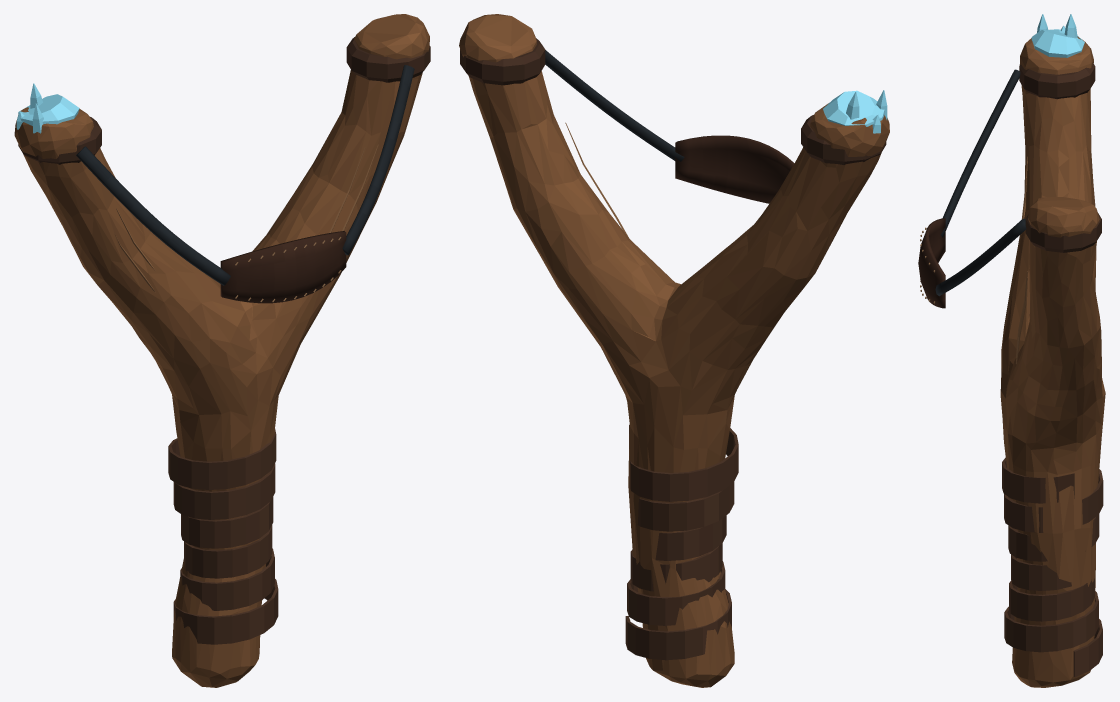
File: slingshot_final.glb
The picture shows the model from 3 angles, left to right: view 1: azimuth 30°, elevation 25°; view 2: azimuth 150°, elevation 25°; view 3: azimuth 270°, elevation 25°; orthographic projection. The views are drawn at different scales.
Visible parts, largest first — view 1: Wood_Frame, Grip_Wrap, Leather_Pouch, Band_L, Band_R, Ice_Details; view 2: Wood_Frame, Grip_Wrap, Leather_Pouch, Band_R, Ice_Details; view 3: Wood_Frame, Grip_Wrap, Leather_Pouch, Band_L, Ice_Details, Band_R.
Part boxes in pixels (box(x1,y1,x2,y2)): Wood_Frame: box(14, 14, 429, 687); Grip_Wrap: box(18, 37, 430, 644); Leather_Pouch: box(220, 231, 346, 303); Band_L: box(76, 146, 230, 285); Band_R: box(342, 65, 414, 255); Ice_Details: box(16, 83, 79, 133); Wood_Frame: box(459, 14, 889, 687); Grip_Wrap: box(460, 38, 886, 660); Leather_Pouch: box(675, 135, 794, 203); Band_R: box(545, 50, 684, 161); Ice_Details: box(823, 90, 887, 133); Wood_Frame: box(1000, 36, 1105, 687); Grip_Wrap: box(1002, 64, 1103, 676); Leather_Pouch: box(918, 218, 945, 308); Band_L: box(941, 69, 1020, 237); Ice_Details: box(1031, 14, 1084, 57); Band_R: box(935, 218, 1026, 296).
Size of the model in its own units: 0.4895 by 0.7192 by 0.2062.
